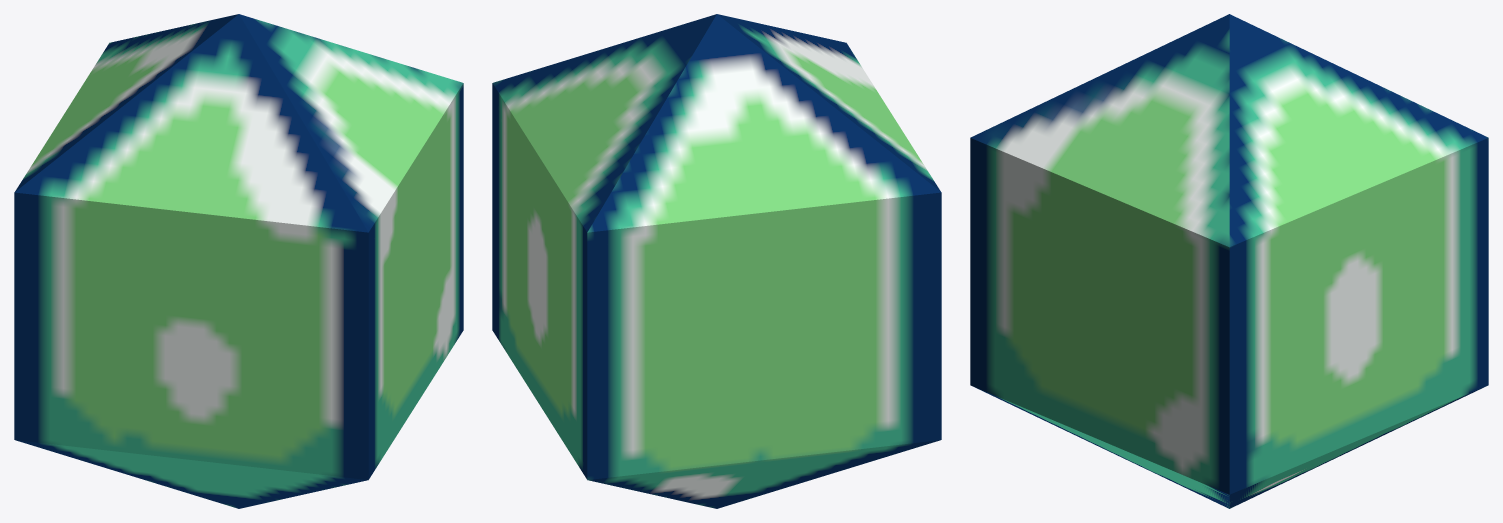
Rendered from jija.fbx.
The picture shows the model from 3 angles, left to right: view 1: azimuth 30°, elevation 25°; view 2: azimuth 150°, elevation 25°; view 3: azimuth 270°, elevation 25°; orthographic projection.
Visible parts, largest first — view 1: Сфера; view 2: Сфера; view 3: Сфера.
Part boxes in pixels (<box>): Сфера: <box>14,14,463,508</box>; Сфера: <box>492,14,941,508</box>; Сфера: <box>970,14,1488,508</box>.
Bounding box in the file's own units: 254 × 268 × 254.
Materials: 1 (1 with a texture image).
